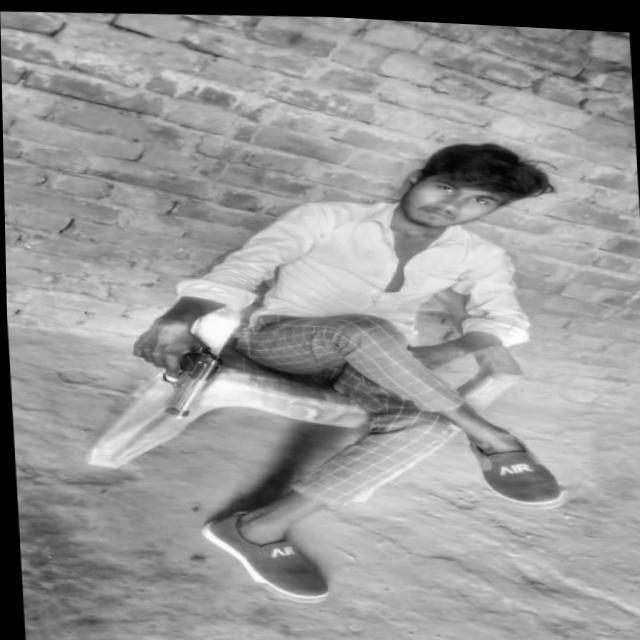weapon: (130, 333, 230, 421)
